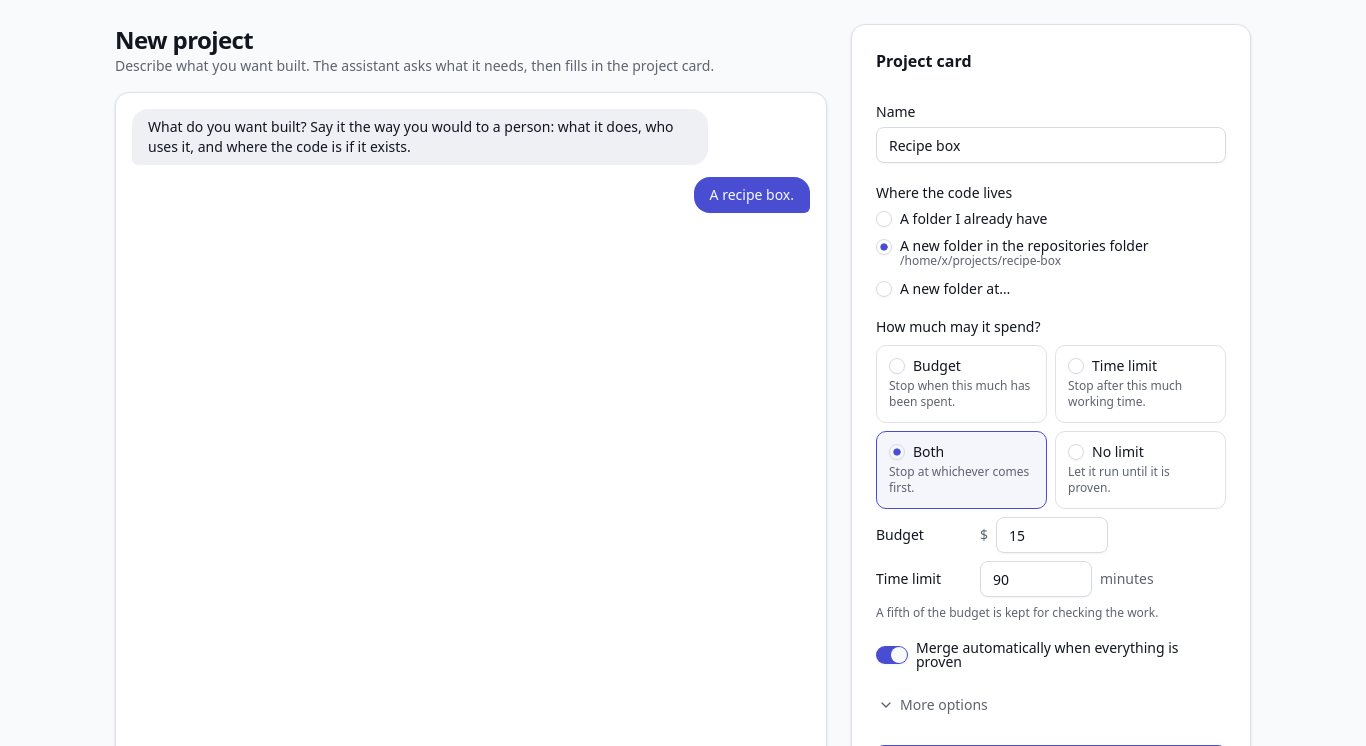
New project (lead UX design section 6.2) › keeps Start building off for No limit until the person says they understand
Click the radio button next to "No limit".
click(1076, 452)  # box [1068,444,1084,460]
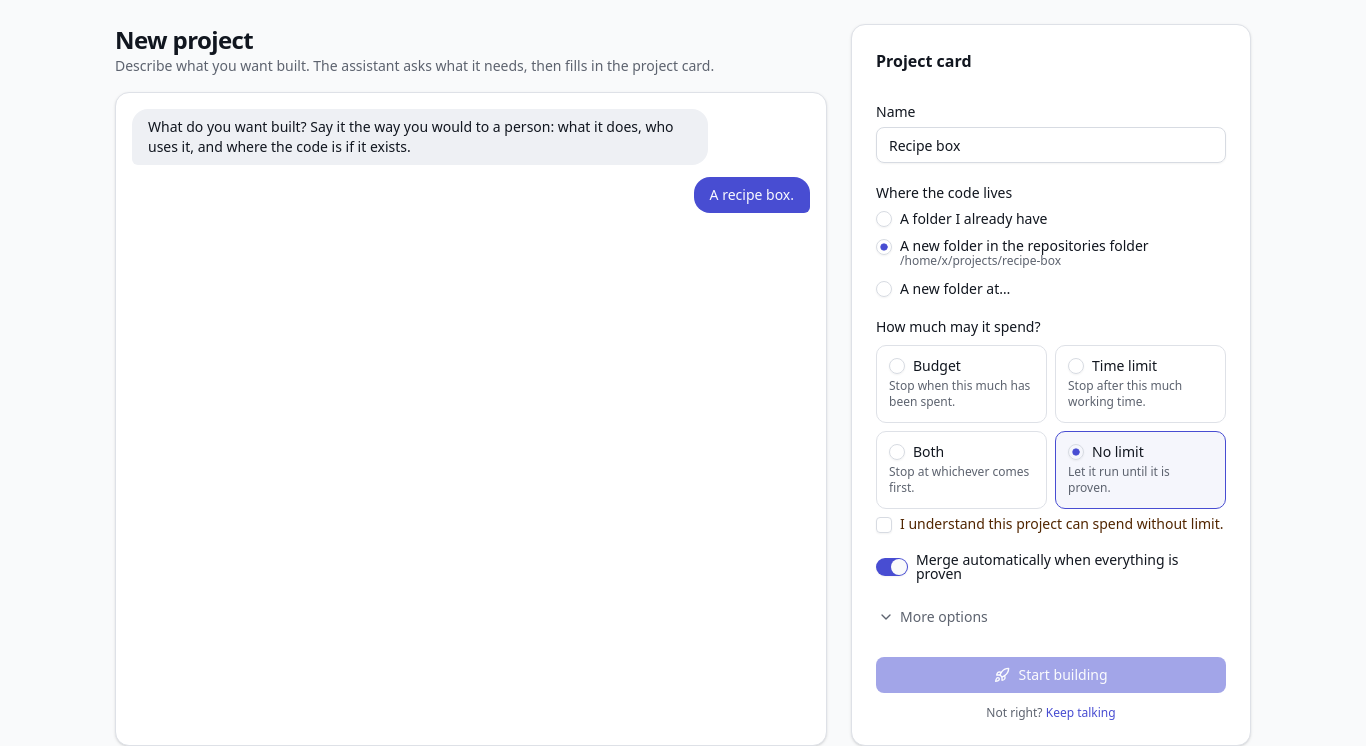
expect the button with test id "start-building" is disabled: met, box [876,657,1226,693]
Click the checkbox with test id "cap-none-ok".
click(884, 525)  # box [876,517,892,533]
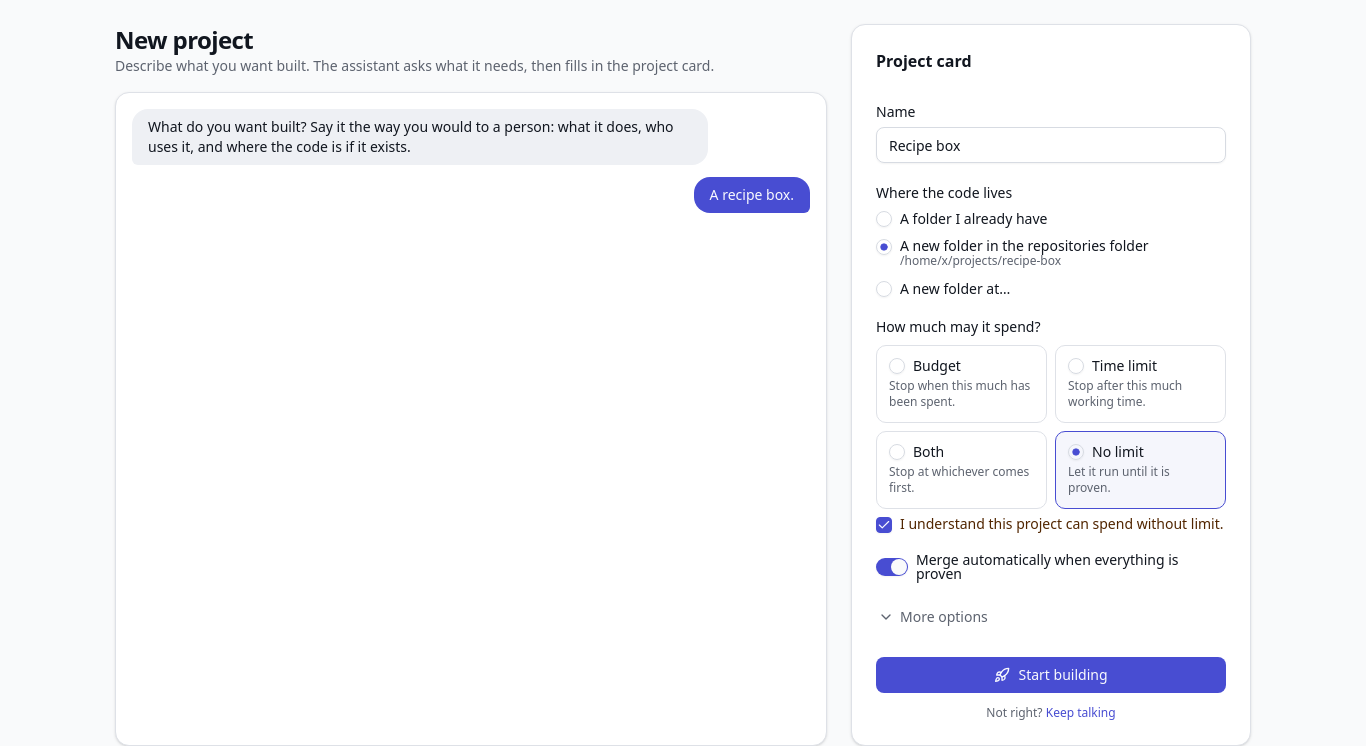
expect the button with test id "start-building" is enabled: met, box [876,657,1226,693]
